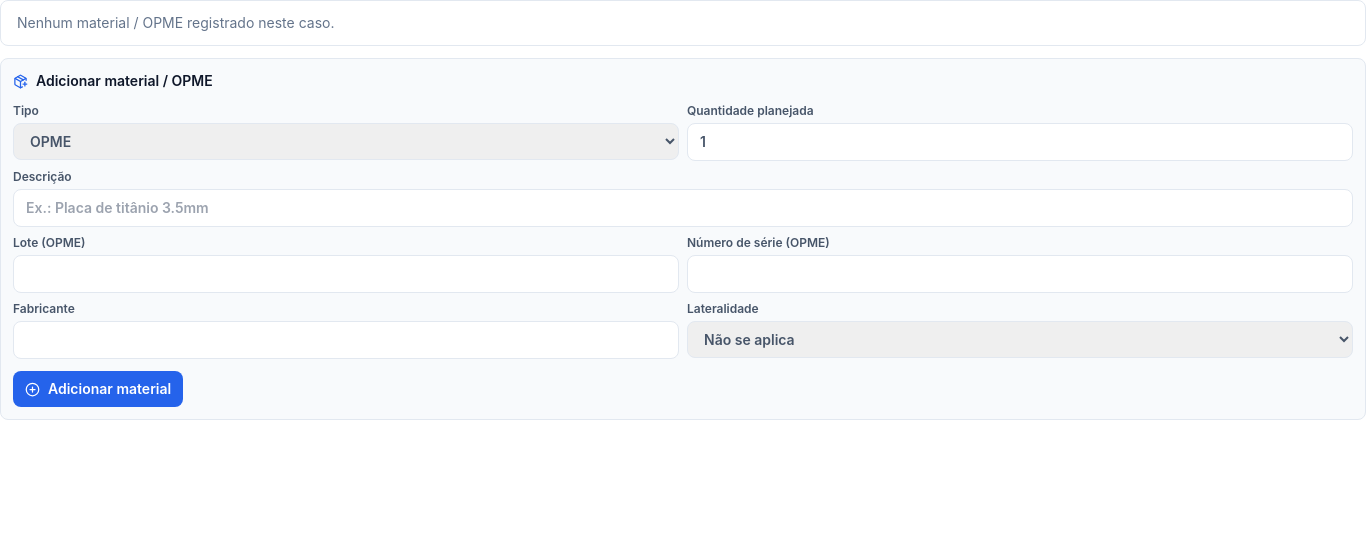
Scenario: SurgeryMaterialsPanel › adds a material/OPME (POST with case/kind/description/quantity/lot)
Check: the button "Adicionar material" is shown, box left=13, top=371, right=183, bottom=407
Select "OPME" in the dropdown labelled "Tipo" at point(346, 142), box left=13, top=123, right=679, bottom=160
Type "Parafuso" into the field labelled "Descrição".
click(683, 208); type("Parafuso")  # box left=13, top=189, right=1353, bottom=227
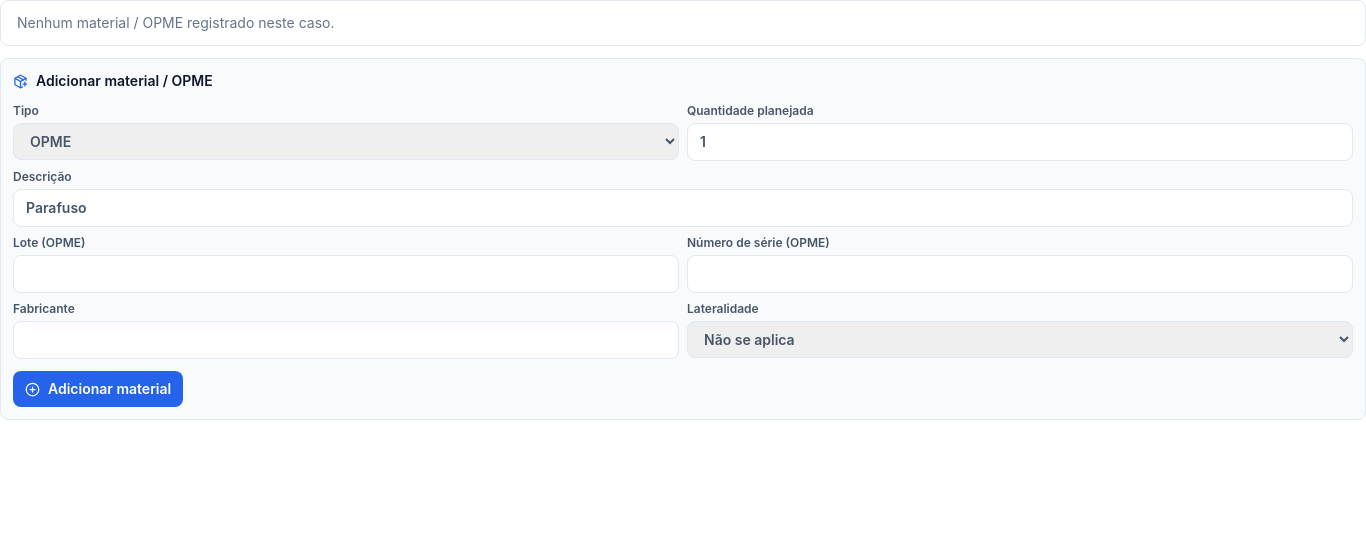
Replace the text in the number field labelled "Quantidade planejada" with "4" at point(1020, 142), box left=687, top=123, right=1353, bottom=161
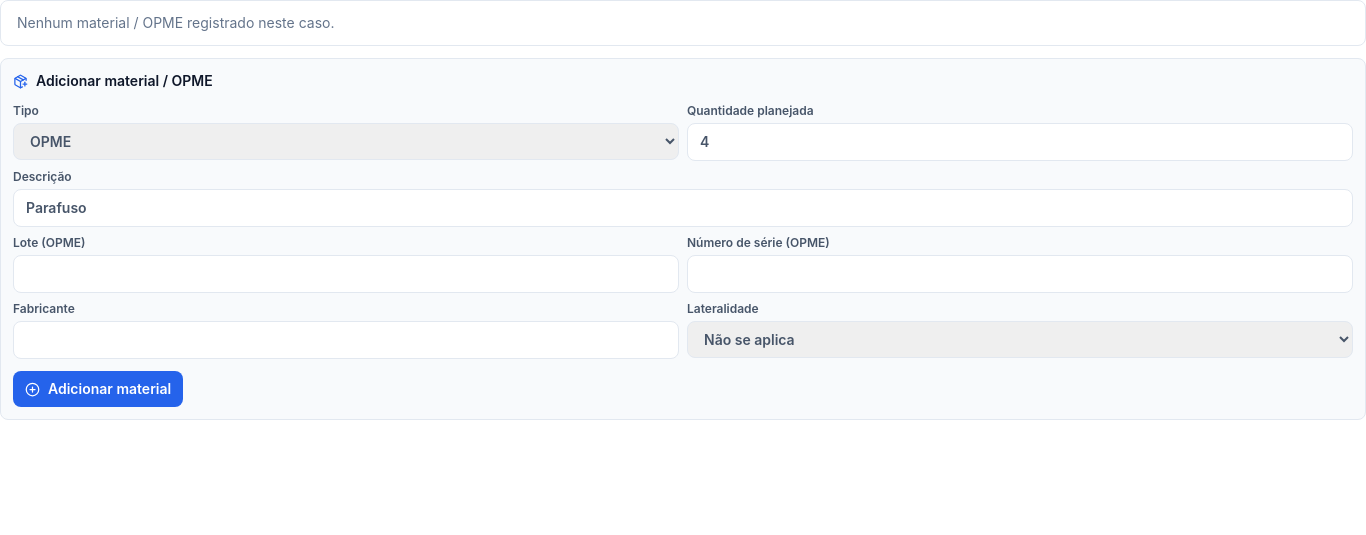
Type "L-7" into the field labelled "Lote (OPME)".
click(346, 274); type("L-7")  # box left=13, top=255, right=679, bottom=293
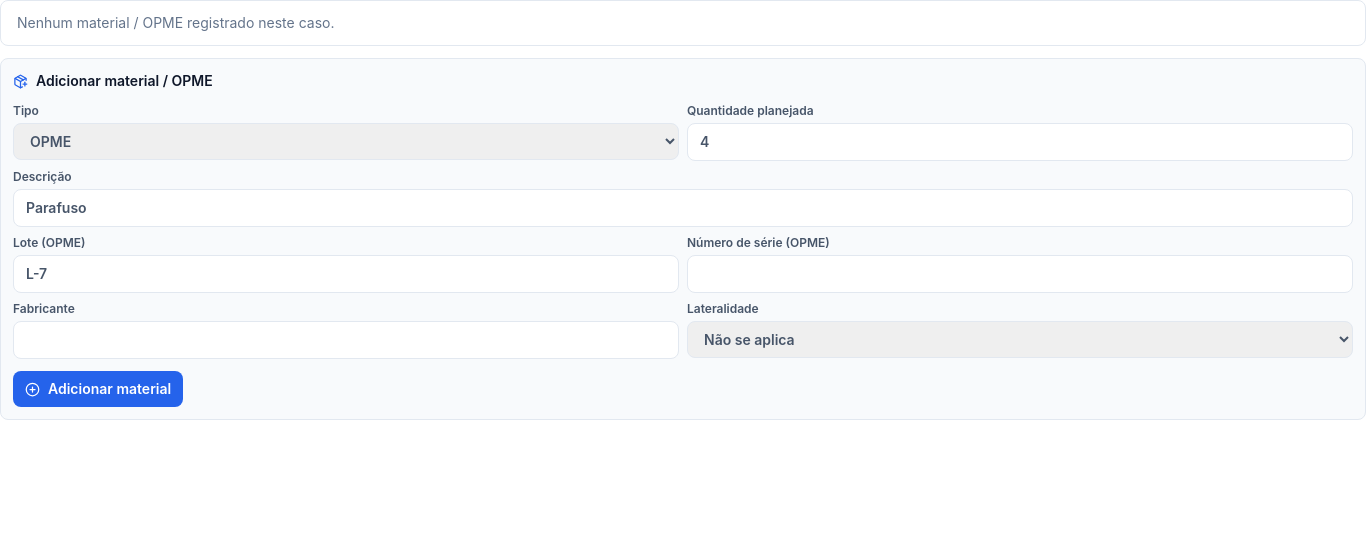
Click the button "Adicionar material".
click(98, 389)  # box left=13, top=371, right=183, bottom=407
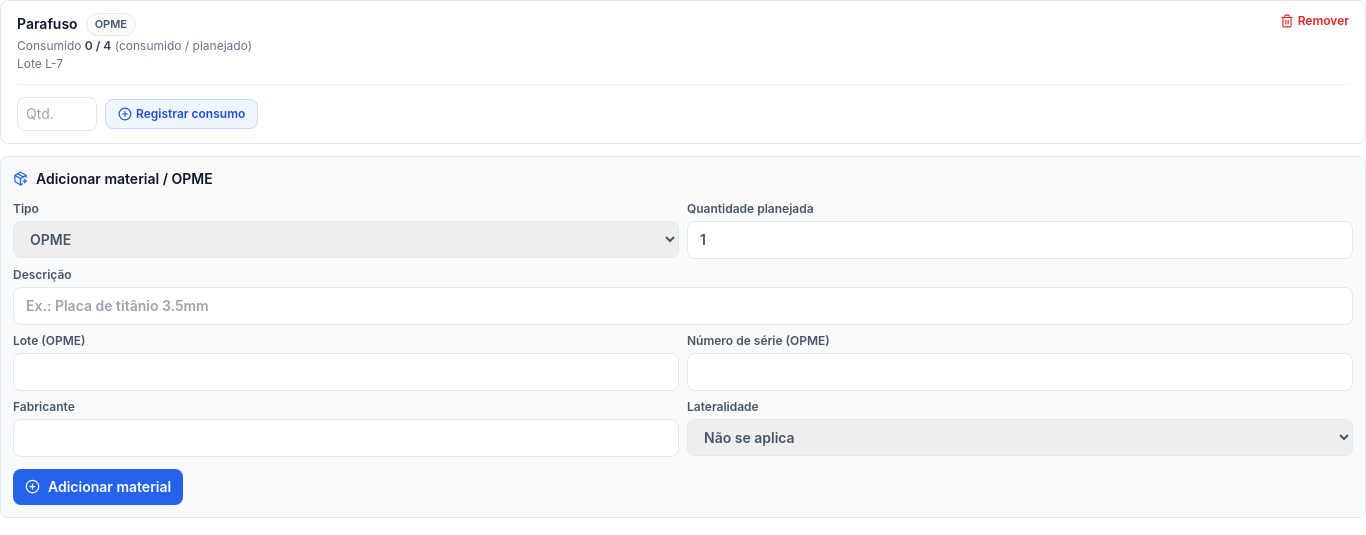
Check: the text "Parafuso" is shown, box left=17, top=14, right=78, bottom=34
